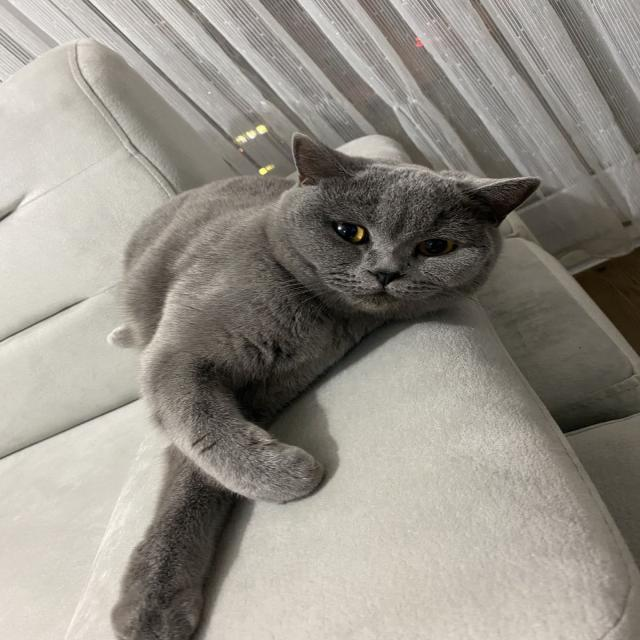british shorthair: (108, 133, 540, 640)
